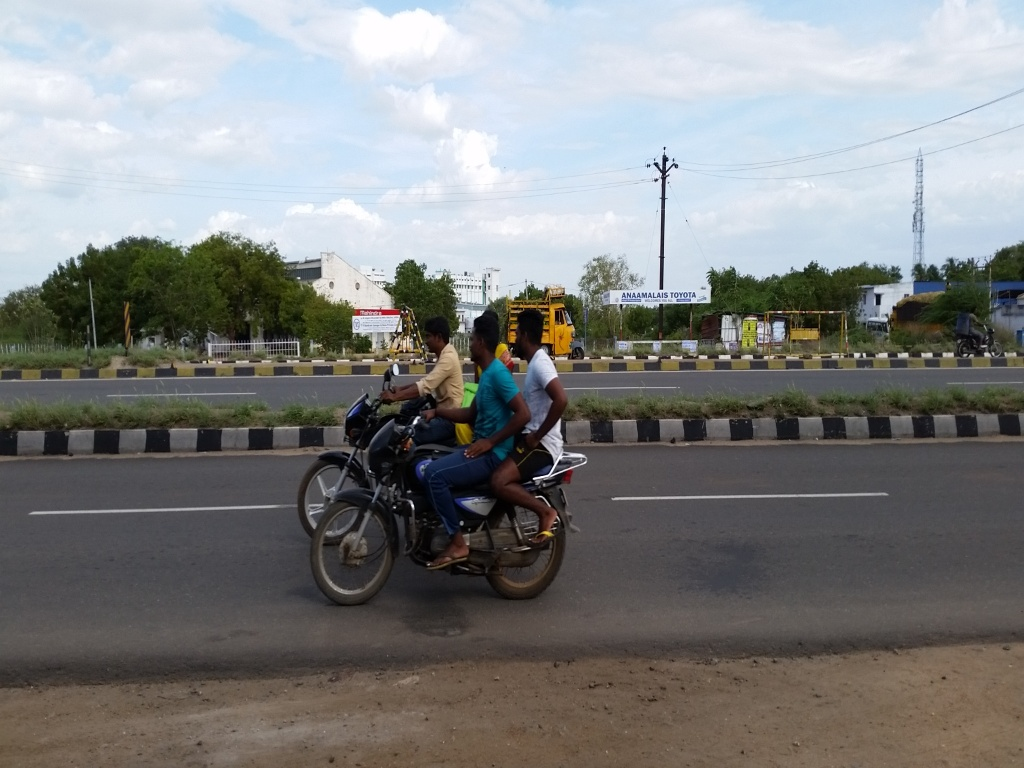biker: (275, 272, 611, 620)
nohelmet: (413, 305, 461, 367), (462, 310, 510, 372), (510, 303, 558, 365)
